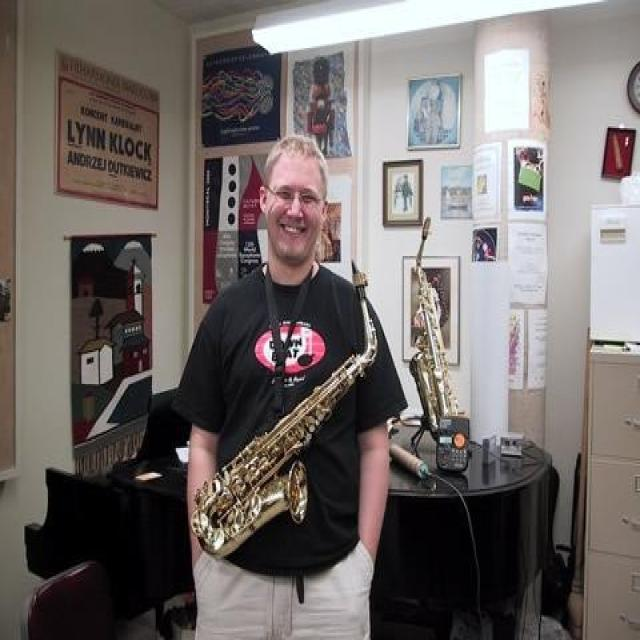saxophone: (189, 257, 381, 563), (410, 215, 462, 448)
